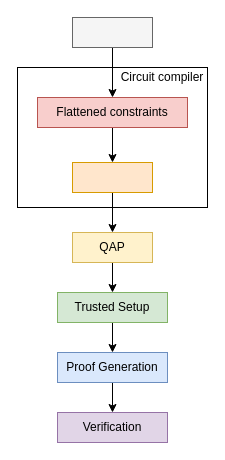
Image size: 225x460. Some labels were removed from this diagram. The shapes that lost their labels are listed below. From the top down, each one's centre as x and y in pixels, then its label:
At pixel 112 32: "Code".
At pixel 112 177: "R1CS".
